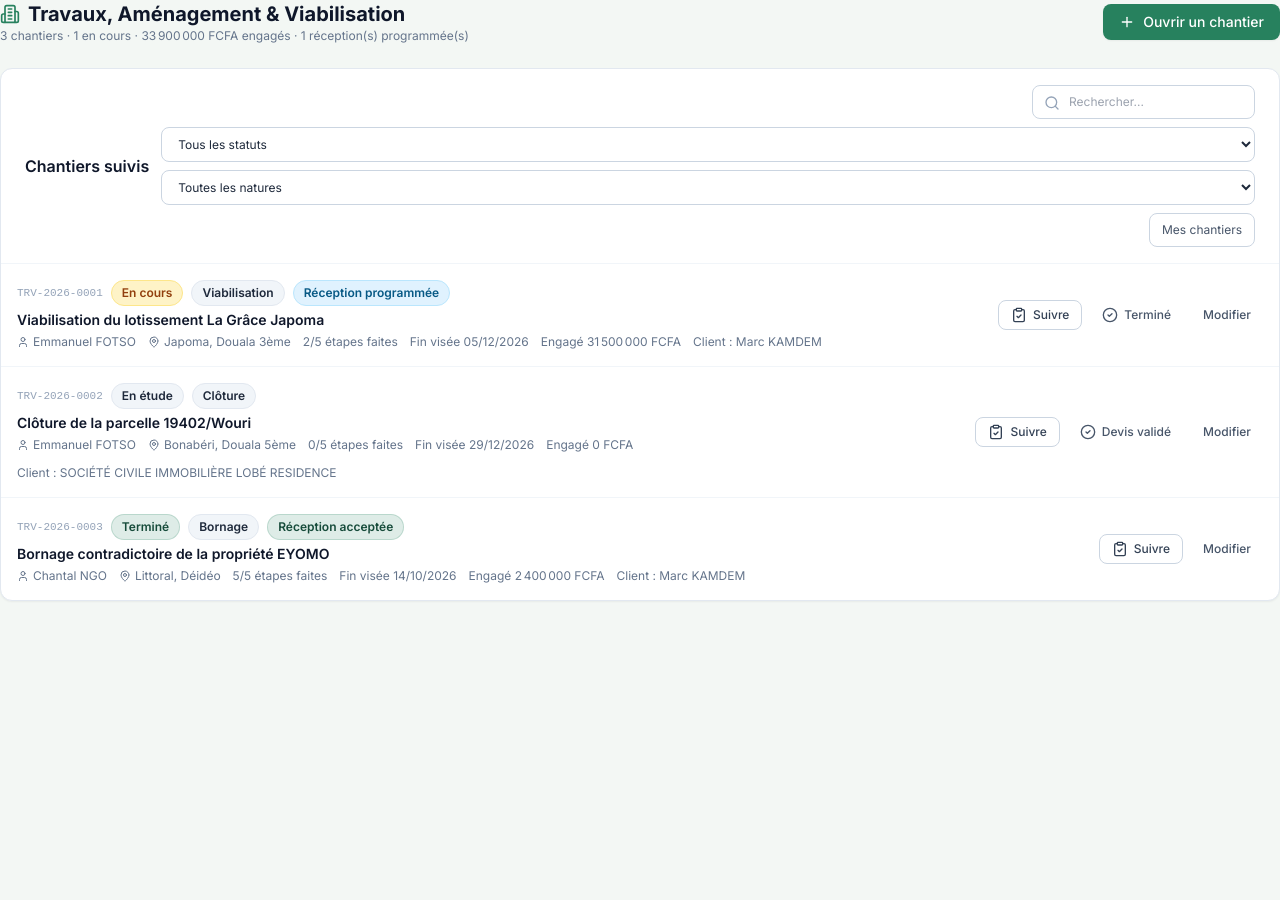
Test: ProjectsPage en mode démo › enregistre un chantier créé dans le dépôt local avec ses cinq étapes
The image size is (1280, 900).
Click the button "Ouvrir un chantier" at (1192, 22), box [1103, 4, 1279, 40]
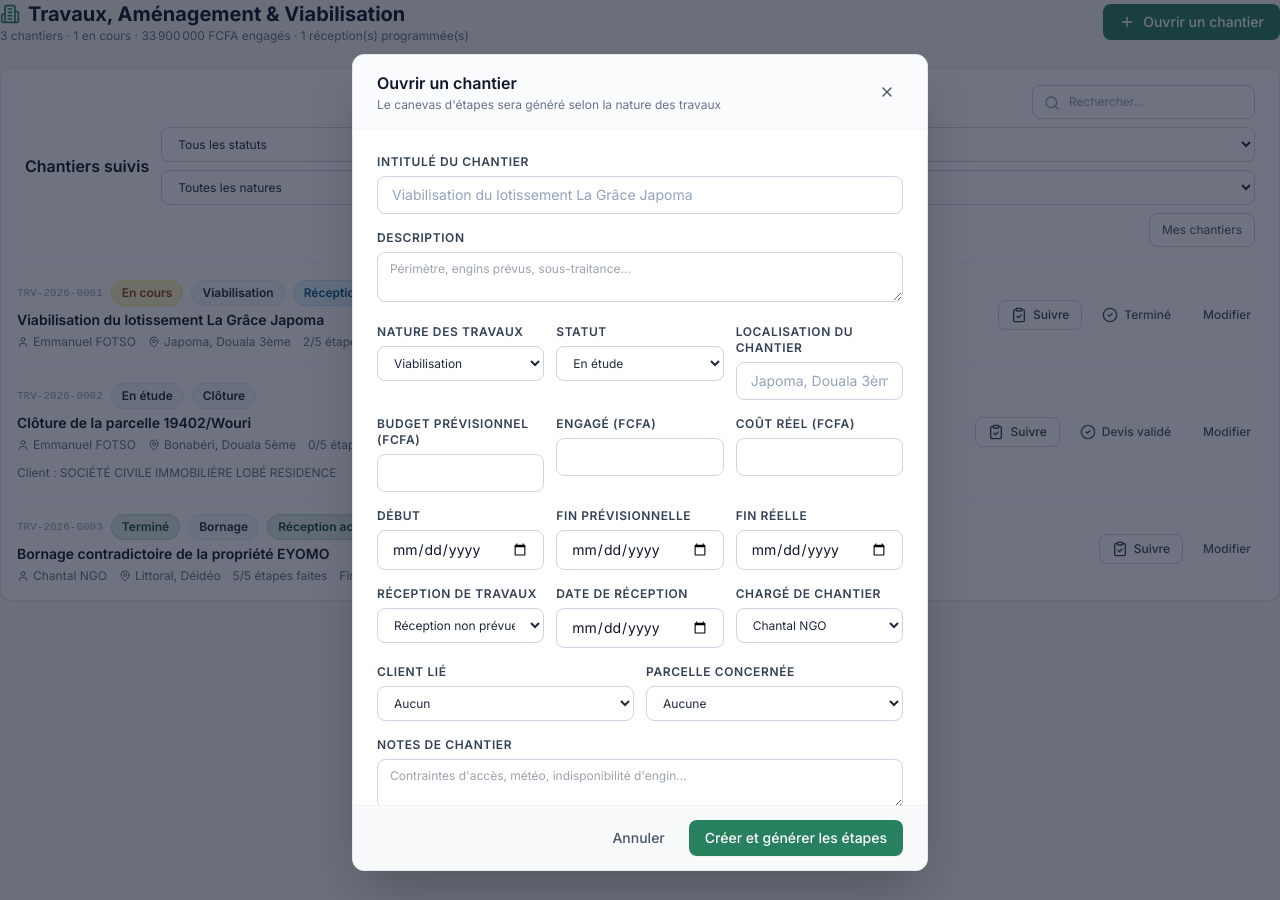
Type "Drainage de la voirie Akwa Nord" into the field with placeholder "Viabilisation du lotissement La Grâce Japoma" at (640, 194), box [377, 176, 903, 214]
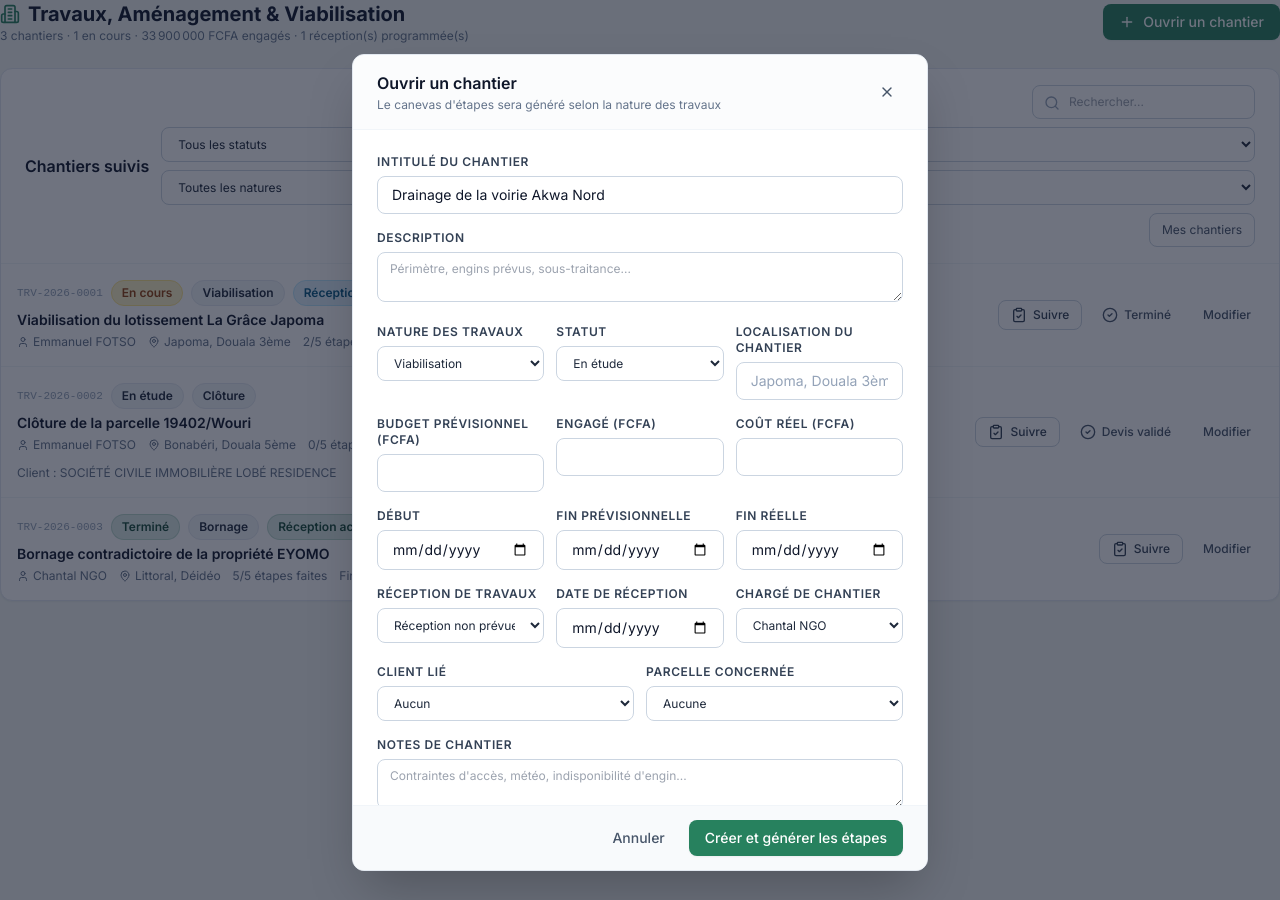
Click the button "Créer et générer les étapes" at (796, 838), box [689, 820, 903, 856]
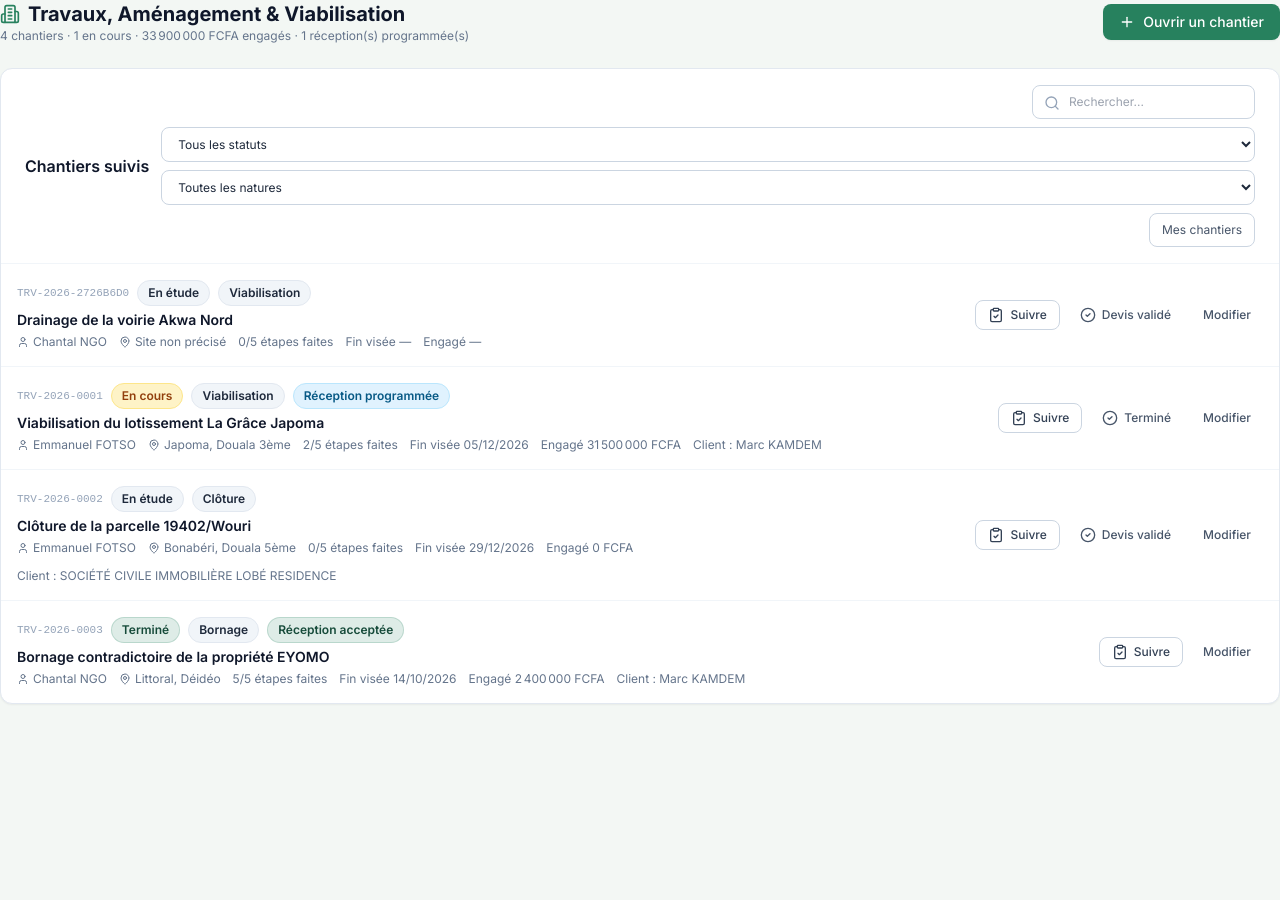
Result: the text "Drainage de la voirie Akwa Nord" is shown at [17, 311, 233, 328]
